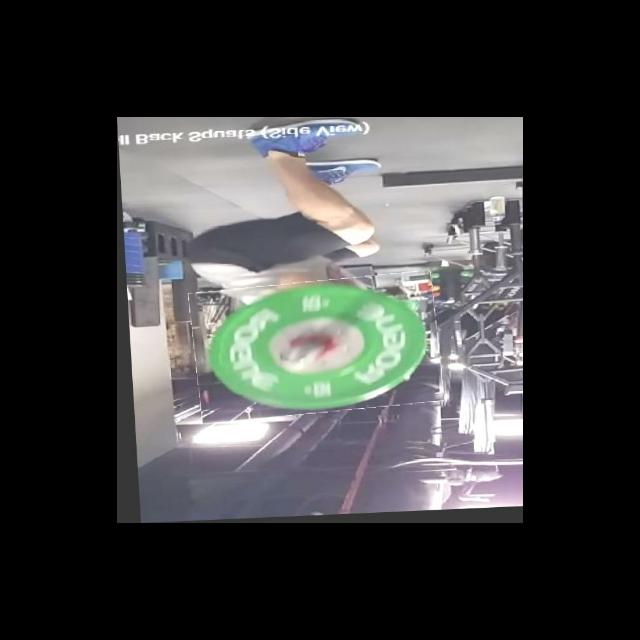barbell: (187, 276, 439, 422)
